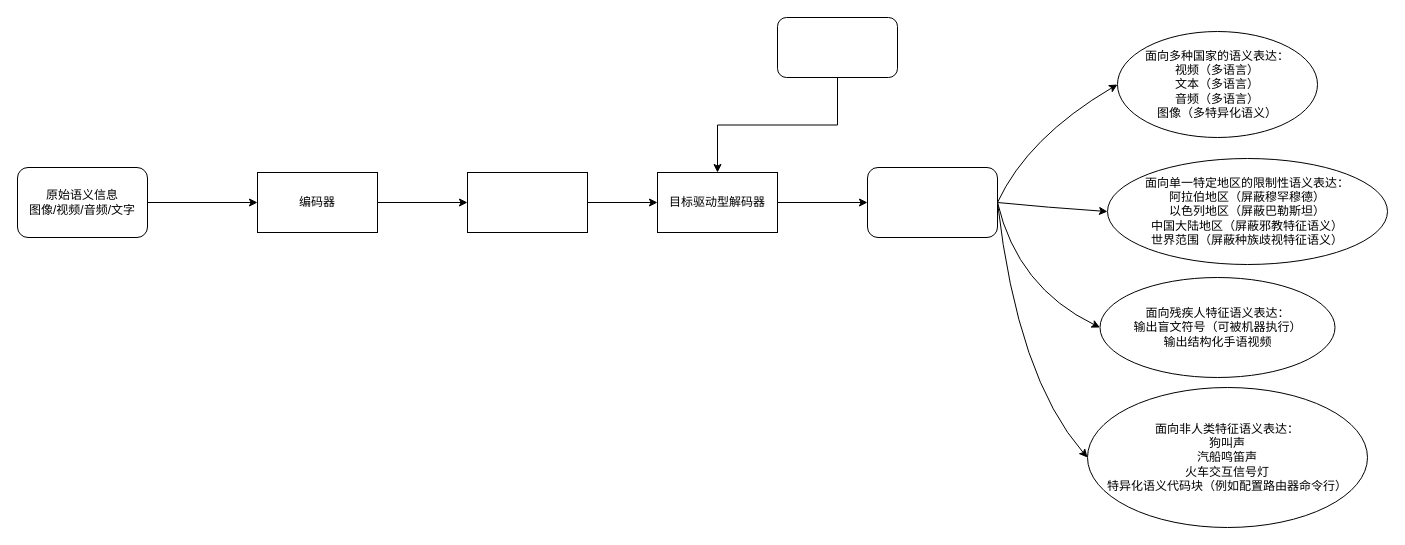
Some shapes in this 1405 by 545 pixel diagram are drawn without their labels. Here are the shapes that lost their labels. From the top down, the centre of each, then its label:
point (837, 47): 限制性条件参数+prompt
point (527, 202): 结构化向量码流
point (932, 202): 特异化语义信息
